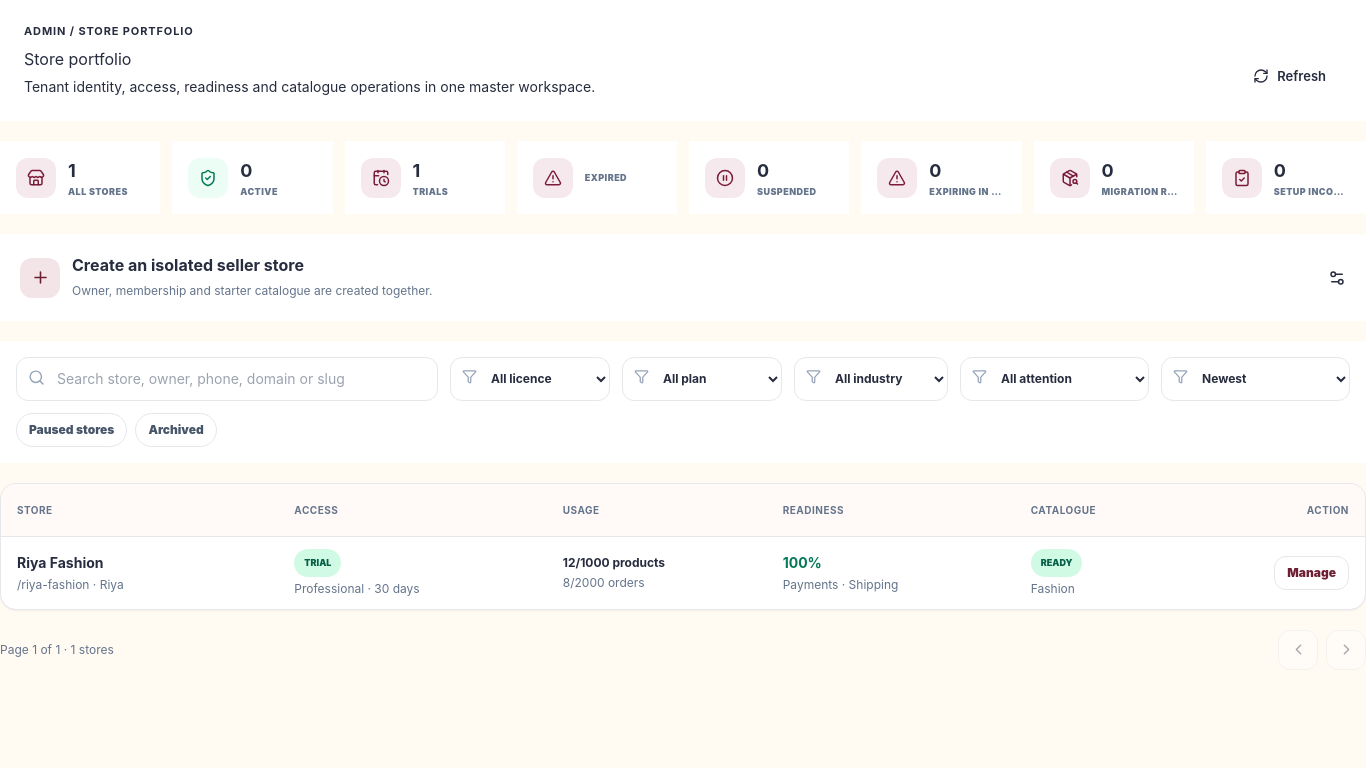
Scenario: renders operational list and opens the responsive store workspace
This screenshot has width=1366, height=768.
Expected: the heading "Store portfolio" is shown, [24,49,131,69]
Click the button "Manage".
click(1312, 573)  # box [1274,556,1349,590]
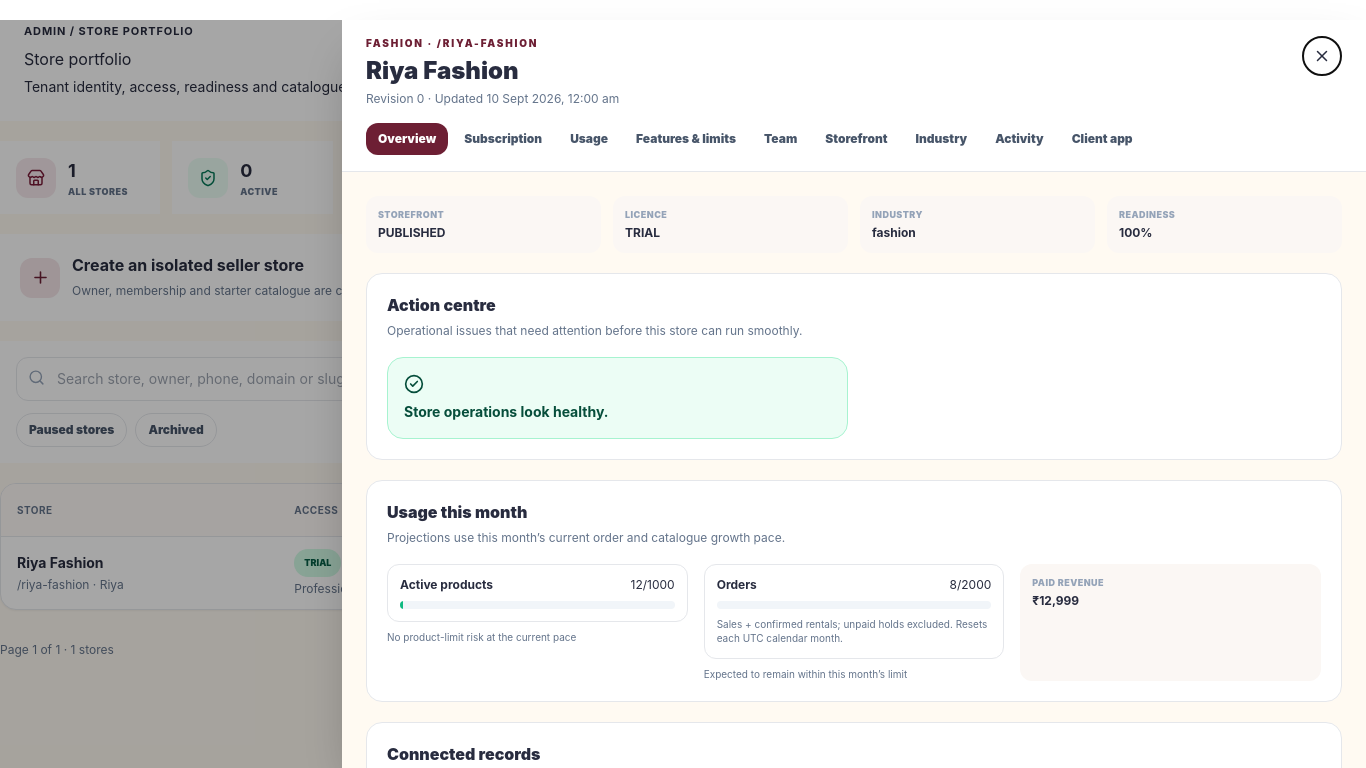
Expected: the dialog named "Manage Riya Fashion" is shown
Expected: the heading "Action centre" is shown, [387,294,496,314]
Expected: the text "₹12,999" is shown, [1032,593,1079,608]
